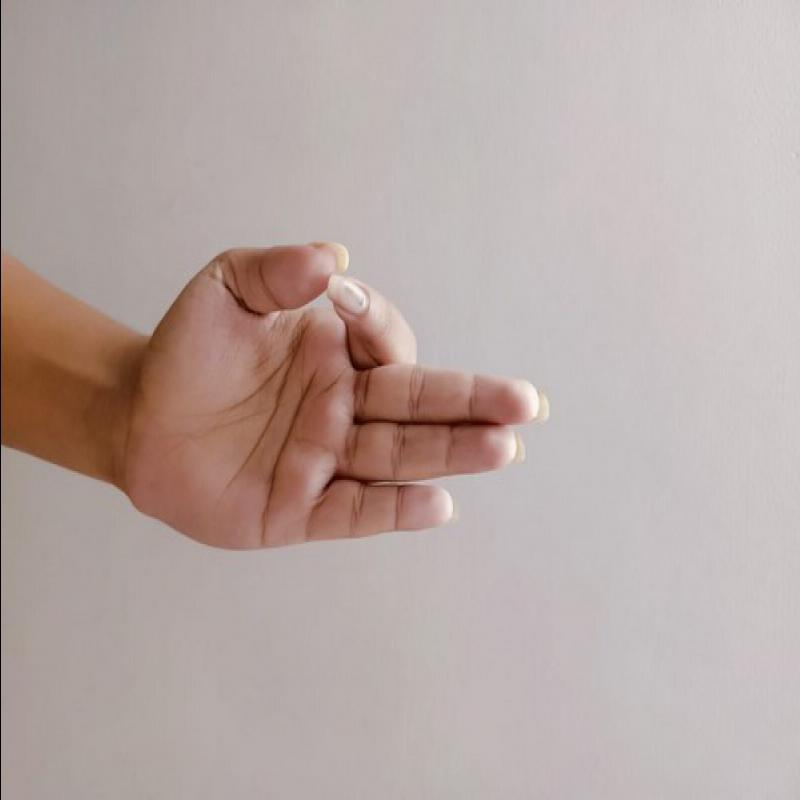Mudraakhyam: (98, 231, 556, 560)
